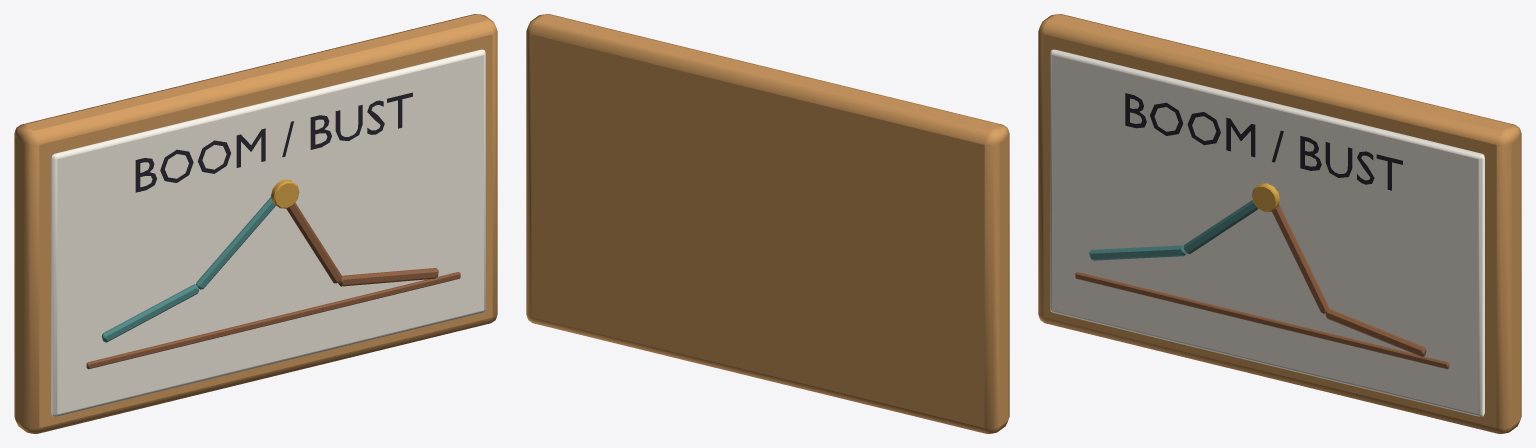
Rendered from era_dotcom_board.glb.
3 views of the same model, side by side, from view 1: azimuth 30°, elevation 25°; view 2: azimuth 150°, elevation 25°; view 3: azimuth 330°, elevation 25° (orthographic).
Visible parts, largest first — view 1: era_dotcom_board; view 2: era_dotcom_board; view 3: era_dotcom_board.
Boxes of the visible parts, x1,y1,x2,y2 form: era_dotcom_board: [14, 14, 497, 433]; era_dotcom_board: [526, 14, 1009, 433]; era_dotcom_board: [1038, 14, 1521, 433].
Bounding box in the file's own units: 1.24 × 0.76 × 0.152.
